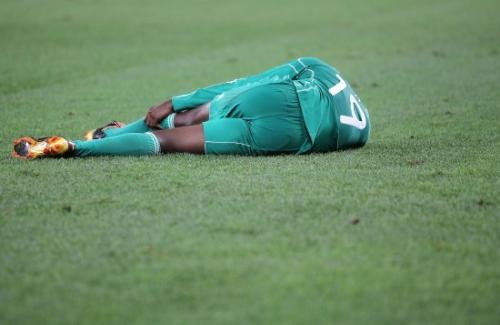falling: (8, 47, 377, 163)
